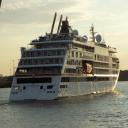cruises: (9, 21, 122, 105)
